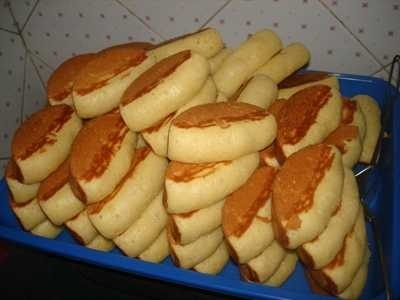pukis: (271, 138, 355, 239), (156, 100, 288, 156)
